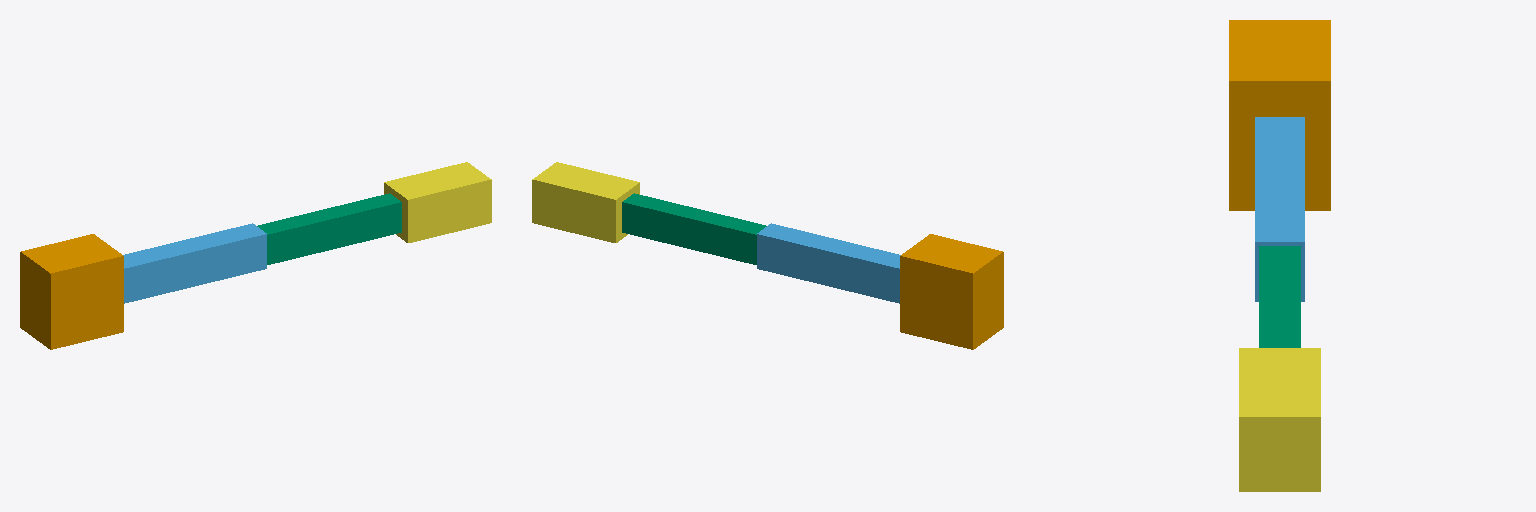
The robot description file, URDF, robot "p3_no_joint_limits":
<?xml version="1.0"?>
<robot name="p3_no_joint_limits">
  <link name="base">
    <inertial>
      <origin xyz="0 0 0" rpy="0 0 0"/>
      <mass value="20.0"/>
      <inertia ixx="1.0" ixy="0" ixz="0" iyy="1.0" iyz="0" izz="1.0"/>
    </inertial>
    <visual><geometry><box size="0.35 0.25 0.35"/></geometry></visual>
    <collision><geometry><box size="0.35 0.25 0.35"/></geometry></collision>
  </link>
  <link name="link_1">
    <inertial>
      <mass value="2.0"/>
      <inertia ixx="0.05" ixy="0" ixz="0" iyy="0.05" iyz="0" izz="0.05"/>
    </inertial>
    <visual><origin xyz="0.45 0 0" rpy="0 0 0"/><geometry><box size="0.90 0.12 0.16"/></geometry></visual>
    <collision><origin xyz="0.45 0 0" rpy="0 0 0"/><geometry><box size="0.90 0.12 0.16"/></geometry></collision>
  </link>
  <link name="link_2">
    <inertial>
      <mass value="1.5"/>
      <inertia ixx="0.04" ixy="0" ixz="0" iyy="0.04" iyz="0" izz="0.04"/>
    </inertial>
    <visual><origin xyz="0.45 0 0" rpy="0 0 0"/><geometry><box size="0.90 0.10 0.14"/></geometry></visual>
    <collision><origin xyz="0.45 0 0" rpy="0 0 0"/><geometry><box size="0.90 0.10 0.14"/></geometry></collision>
  </link>
  <link name="tool">
    <inertial>
      <mass value="0.8"/>
      <inertia ixx="0.02" ixy="0" ixz="0" iyy="0.02" iyz="0" izz="0.02"/>
    </inertial>
    <visual><origin xyz="0.20 0 0" rpy="0 0 0"/><geometry><box size="0.40 0.20 0.20"/></geometry></visual>
    <collision><origin xyz="0.20 0 0" rpy="0 0 0"/><geometry><box size="0.40 0.20 0.20"/></geometry></collision>
  </link>
  <joint name="base_to_link_1" type="revolute">
    <parent link="base"/>
    <child link="link_1"/>
    <axis xyz="0 0 1"/>
  </joint>
  <joint name="link_1_to_link_2" type="revolute">
    <origin xyz="0.9 0 0" rpy="0 0 0"/>
    <parent link="link_1"/>
    <child link="link_2"/>
    <axis xyz="0 0 1"/>
  </joint>
  <joint name="link_2_to_tool" type="fixed">
    <origin xyz="0.65 0 0" rpy="0 0 0"/>
    <parent link="link_2"/>
    <child link="tool"/>
  </joint>
</robot>

--- Render facts (derived) ---
Views: 3 orthographic renders of the robot side by side, from view 1: azimuth 30°, elevation 25°; view 2: azimuth 150°, elevation 25°; view 3: azimuth 270°, elevation 25°.
Model p3_no_joint_limits with 4 links and 3 joints (2 revolute, 1 fixed), rooted at base, posed all joints at 0.
Visible links, largest first — view 1: base, link_1, tool, link_2; view 2: base, link_1, tool, link_2; view 3: base, tool, link_1, link_2.
Link boxes in pixels (left/top/right/bottom): base: left=20, top=234, right=123, bottom=349; link_1: left=123, top=223, right=266, bottom=303; tool: left=384, top=162, right=491, bottom=242; link_2: left=257, top=193, right=401, bottom=264; base: left=900, top=234, right=1003, bottom=349; link_1: left=757, top=223, right=900, bottom=303; tool: left=532, top=162, right=639, bottom=242; link_2: left=622, top=193, right=766, bottom=264; base: left=1229, top=20, right=1330, bottom=210; tool: left=1239, top=348, right=1320, bottom=491; link_1: left=1255, top=117, right=1304, bottom=301; link_2: left=1259, top=246, right=1300, bottom=347.
Size in the robot's own frame: 2.12 by 0.25 by 0.35 metres.
Geometry: primitives only (box / cylinder / sphere), no mesh files.
